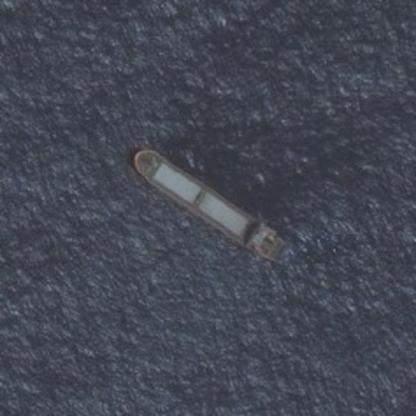ship: (128, 145, 290, 264)
